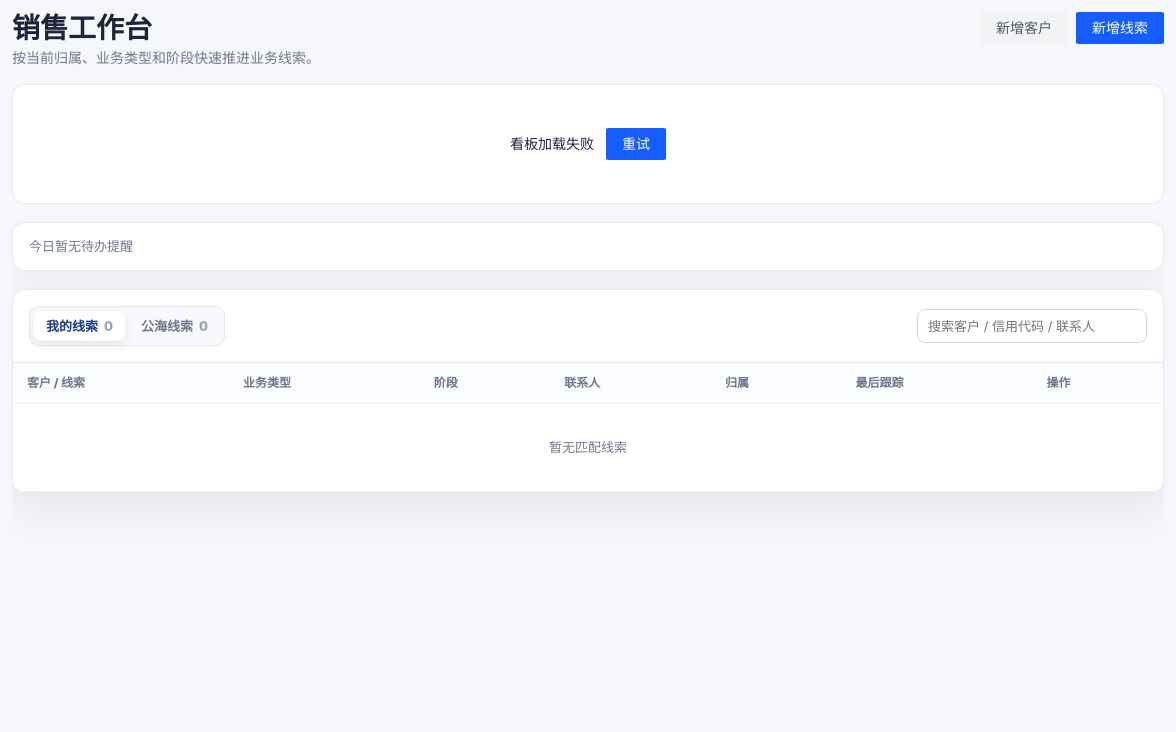
it: 原型化指标区 › 失败态可重试
Expected: the element with test id "dashboard-error" is shown, 12,84 -> 1164,204
Step 1. Click the button with test id "dashboard-retry" → (636, 144), box 606,128 -> 666,160
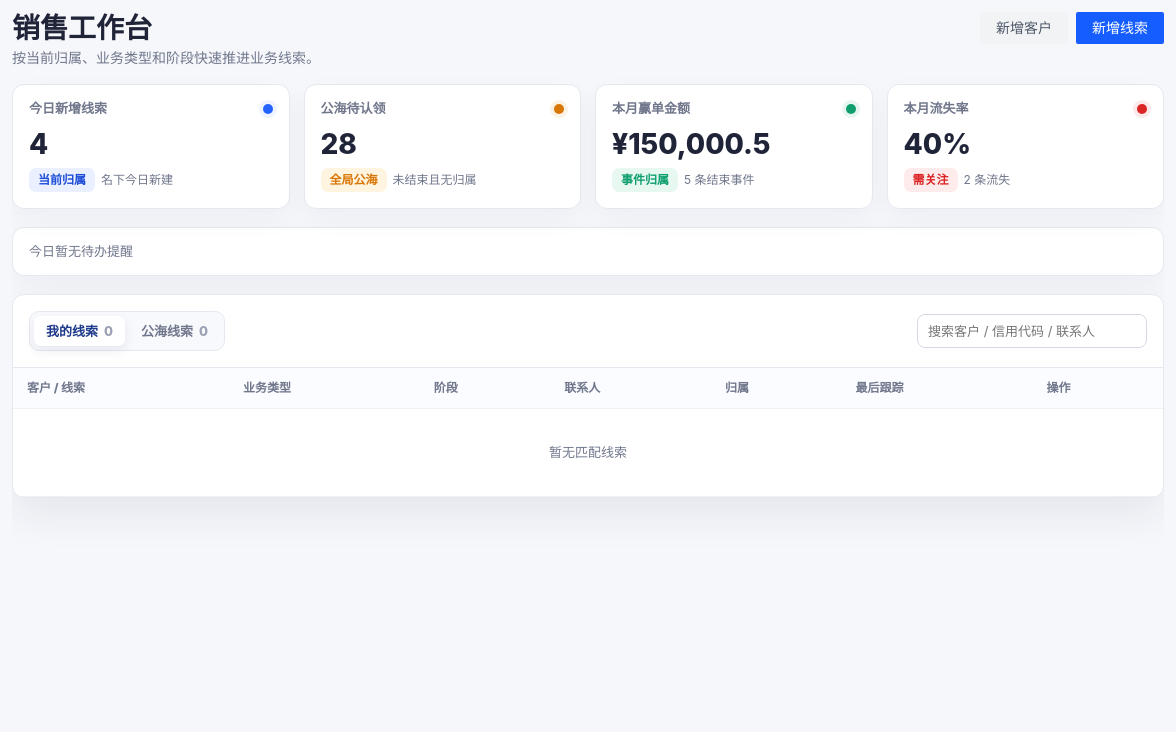
Result: the element with test id "dashboard-metrics" is shown at 12,84 -> 1164,209
